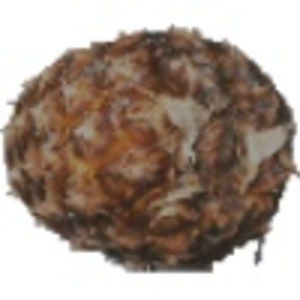abacaxi: (4, 21, 291, 263)
